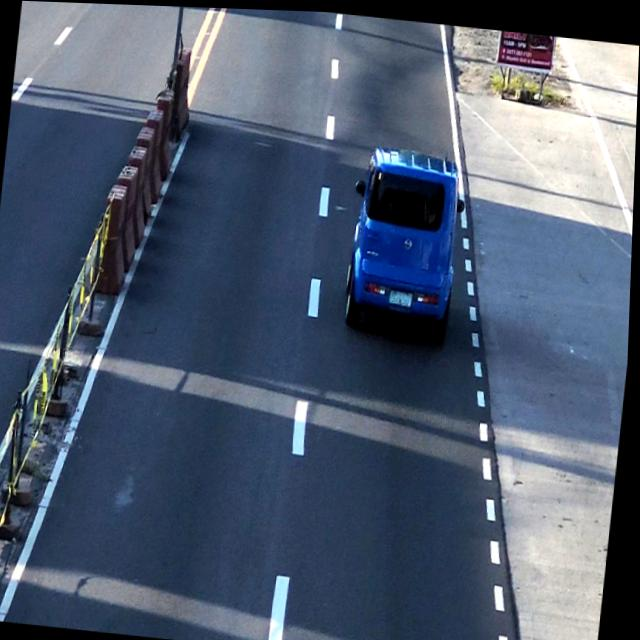Car: (342, 143, 468, 338)
License-Plate: (387, 281, 417, 307)
